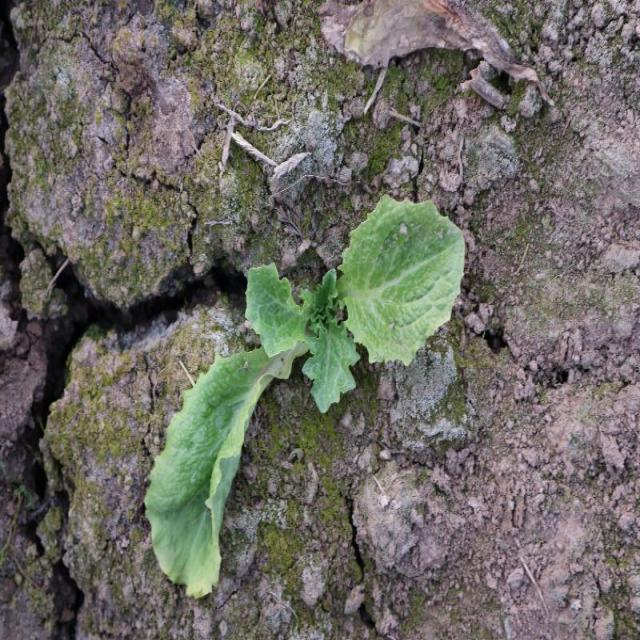crop: (144, 195, 466, 596)
